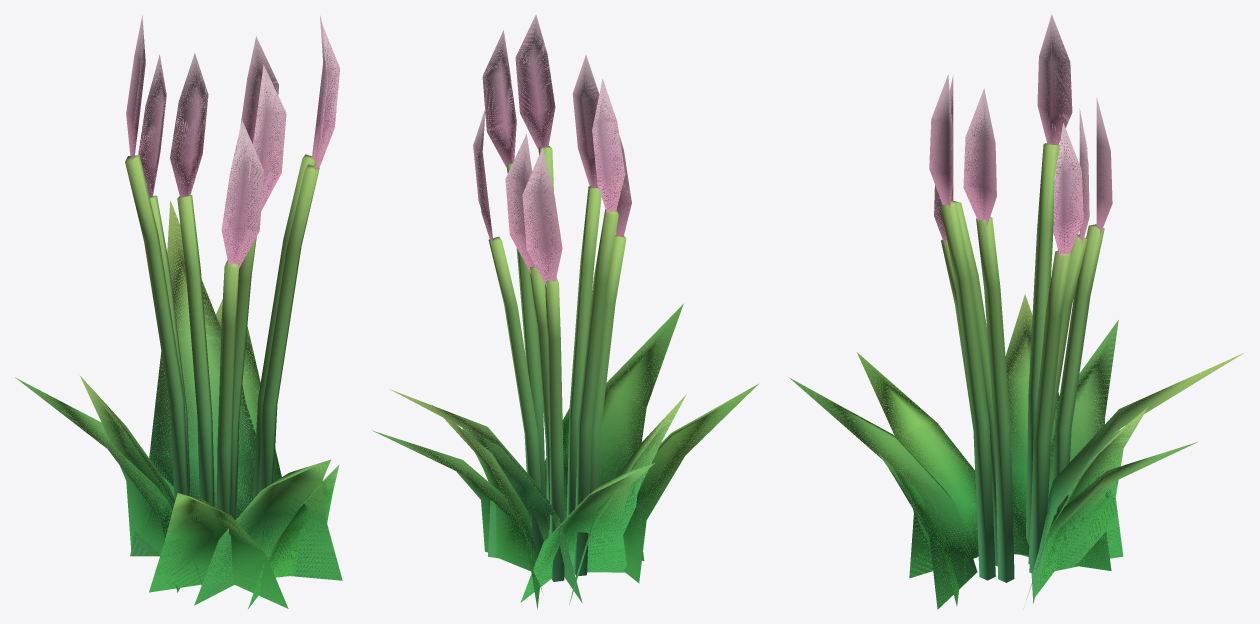
The model's file is verdant_ground_grass_tuft_c.glb.
3 renders of one model, left to right at view 1: azimuth 30°, elevation 25°; view 2: azimuth 150°, elevation 25°; view 3: azimuth 270°, elevation 25°, orthographic. The views are drawn at different scales.
Visible parts, largest first — view 1: verdant_ground_grass_tuft_c; view 2: verdant_ground_grass_tuft_c; view 3: verdant_ground_grass_tuft_c.
Part boxes in pixels (x1,y1,x2,y2): verdant_ground_grass_tuft_c: (15,15,342,608); verdant_ground_grass_tuft_c: (372,14,758,609); verdant_ground_grass_tuft_c: (788,14,1243,609).
Bounding box in the file's own units: 0.7829 × 1.57 × 1.23.
